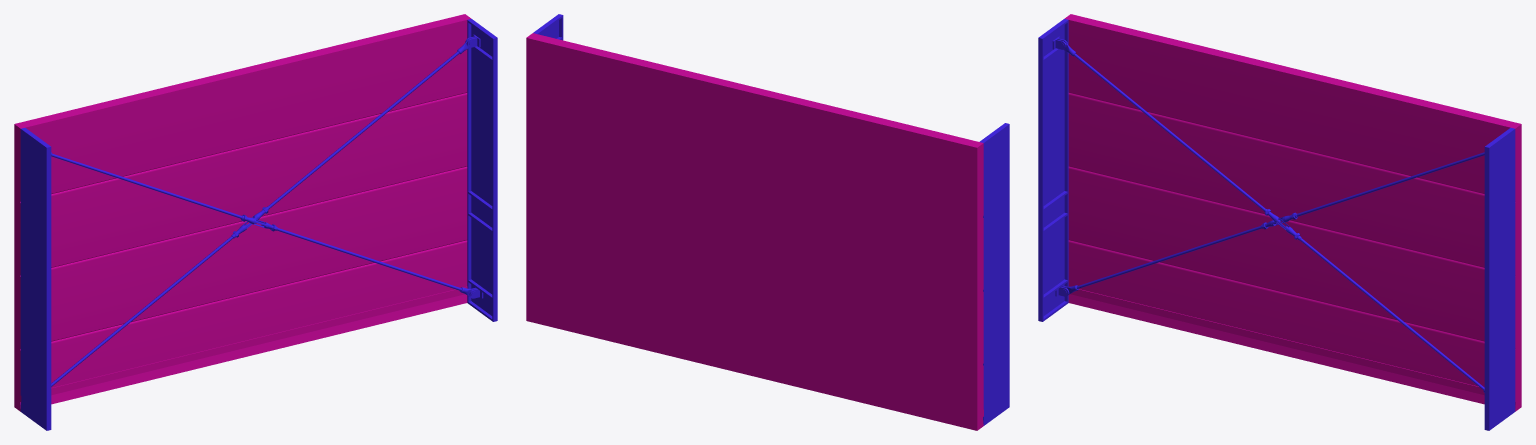
Rendered from Wall_C.glb.
3 renders of one model, left to right at view 1: azimuth 30°, elevation 25°; view 2: azimuth 150°, elevation 25°; view 3: azimuth 330°, elevation 25°, orthographic.
Visible parts, largest first — view 1: Wall_C; view 2: Wall_C; view 3: Wall_C.
Part boxes in pixels (x1,y1,x2,y2): Wall_C: (14,14,497,430); Wall_C: (526,14,1009,430); Wall_C: (1038,14,1521,430).
Bounding box in the file's own units: 10 × 6 × 1.25.
